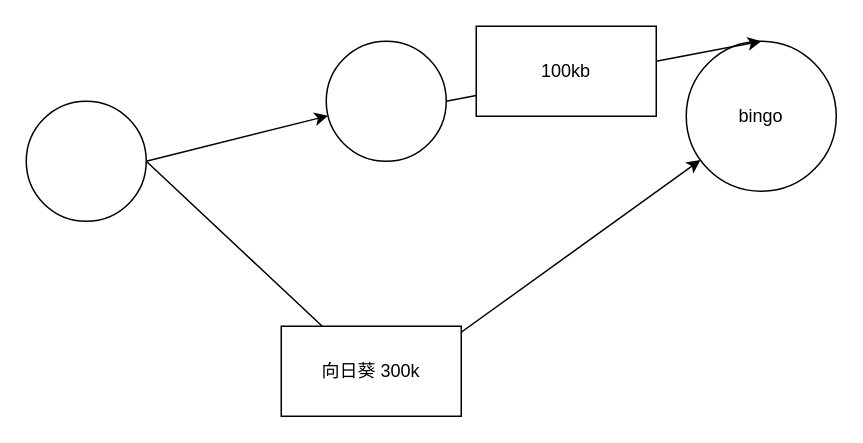
Some shapes in this 863 by 443 pixel diagram are drawn without their labels. Each missing label, with the box of its shape:
HK: (325, 40, 446, 161)
May: (25, 100, 146, 221)
